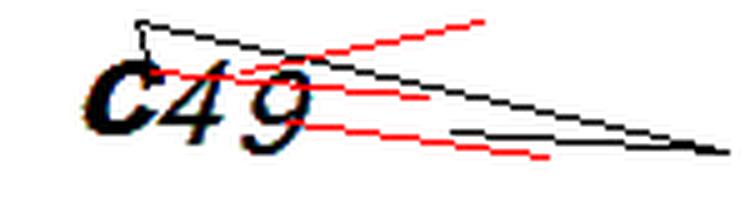4: (153, 55, 234, 153)
9: (233, 66, 320, 164)
C: (71, 51, 172, 141)
